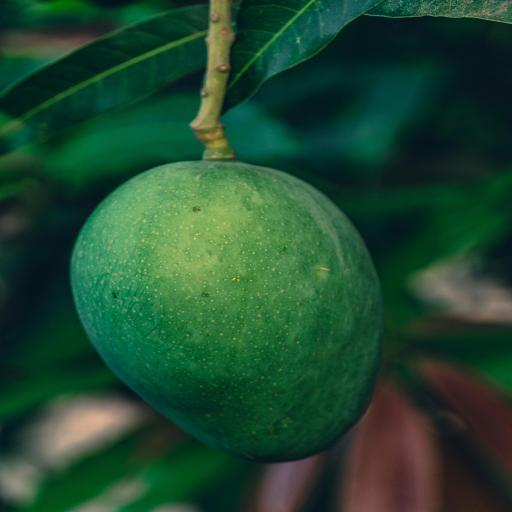mango: (69, 157, 383, 458)
